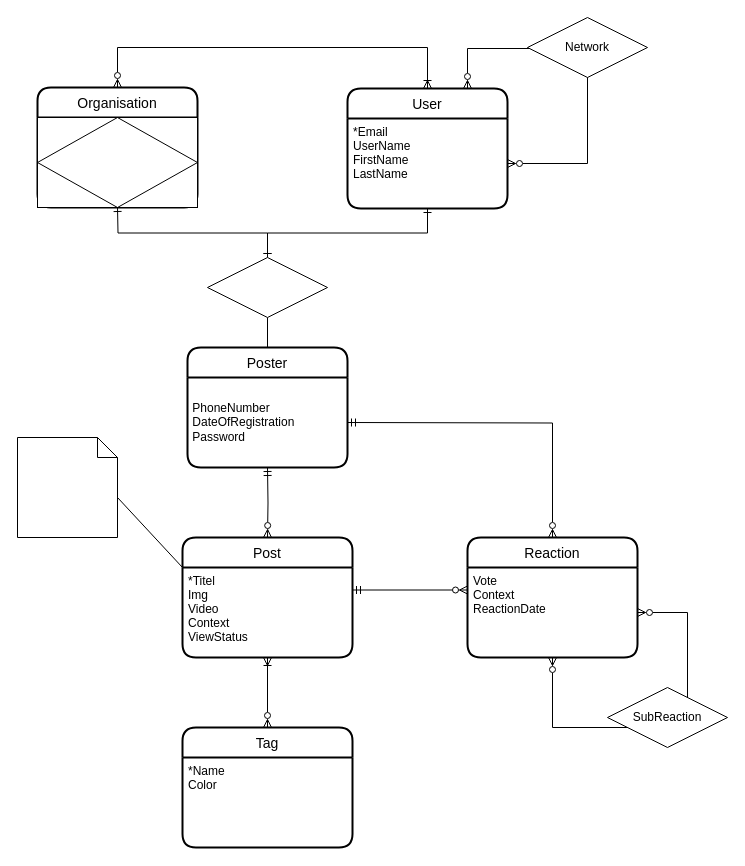
Some shapes in this 745 by 866 pixel diagram are drawn without their labels. The shapes that lost their labels are listed below. From the top down, each one's centre as x and y in pixels, then its label:
At (117,162): "*OrganisationCode Name VerifiedOrganisation".
At (267,287): "is a".
At (67,487): "A post can be made by either a user or oranisation".
